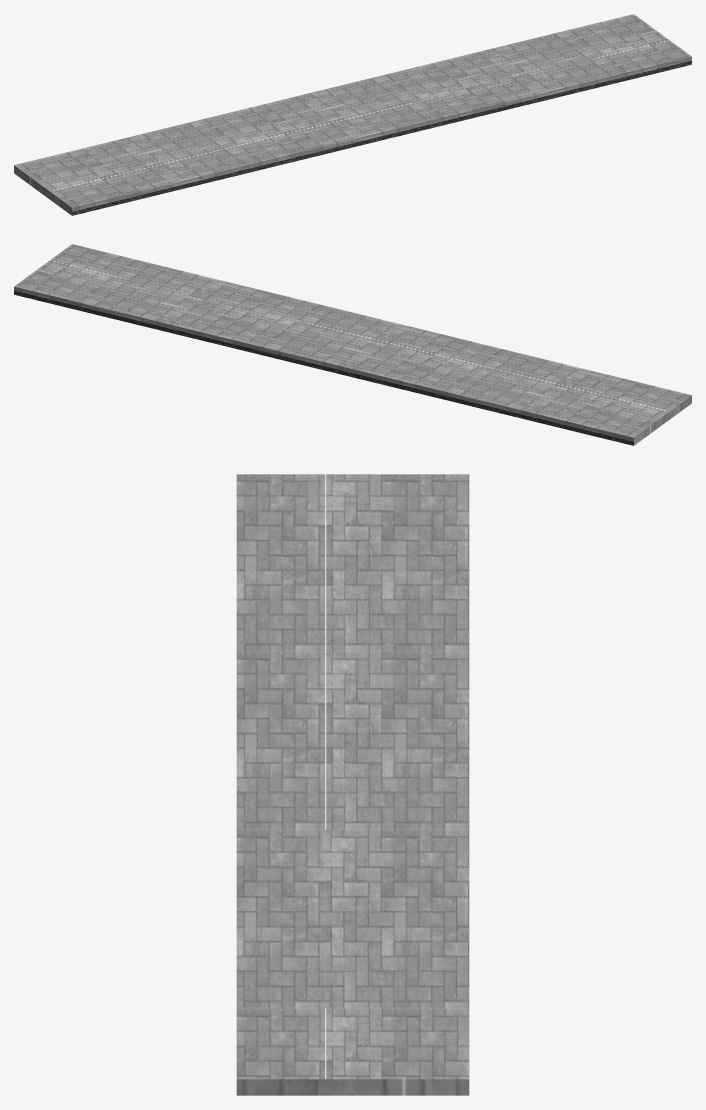
Rendered from S_Walk.obj.
The picture shows the model from 3 angles, top to bottom: view 1: azimuth 30°, elevation 25°; view 2: azimuth 150°, elevation 25°; view 3: azimuth 270°, elevation 25°; orthographic projection. The views are drawn at different scales.
Parts seen in each view (by area): view 1: pCube1; view 2: pCube1; view 3: pCube1.
Part boxes in pixels (x1,y1,x2,y2): pCube1: (14, 14, 691, 215); pCube1: (14, 244, 691, 445); pCube1: (236, 474, 469, 1095).
Size of the model in its own units: 160 by 2 by 26.
Materials: 1 (1 with a texture image).
